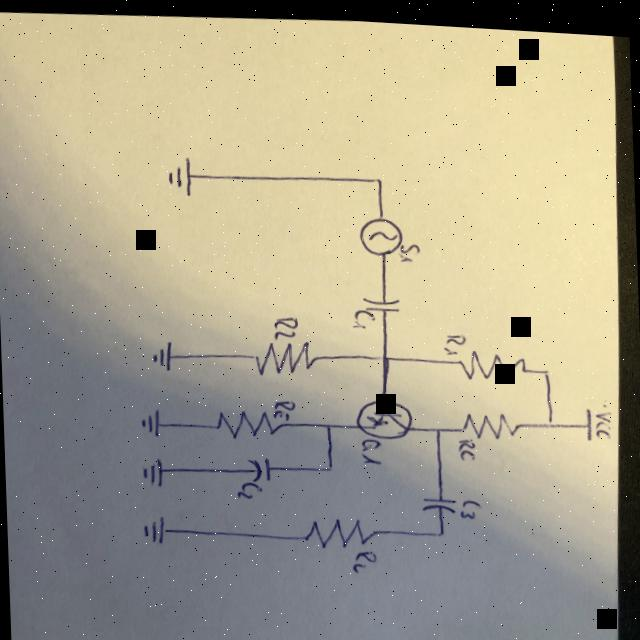capacitor: (362, 289, 403, 309), (420, 489, 460, 509), (246, 451, 274, 479)
ground: (165, 151, 194, 198), (149, 333, 174, 370), (141, 509, 168, 543), (140, 452, 165, 486), (138, 402, 161, 435)
junction: (542, 407, 558, 424), (368, 168, 384, 183), (377, 345, 392, 361), (537, 358, 553, 373), (320, 415, 336, 429), (322, 454, 338, 468), (433, 520, 449, 533), (430, 418, 446, 431)
resistor: (300, 509, 381, 547), (250, 333, 322, 374), (212, 402, 290, 439), (456, 339, 530, 376), (458, 402, 522, 435)
source: (357, 210, 405, 253), (570, 397, 594, 434)
text: (348, 301, 379, 326), (350, 543, 379, 569), (270, 310, 300, 335), (456, 491, 484, 517), (359, 432, 384, 461), (440, 326, 468, 351), (235, 475, 264, 498), (595, 400, 615, 431), (396, 235, 422, 258), (272, 393, 296, 417), (455, 430, 477, 456)
transistor: (354, 389, 414, 436)
